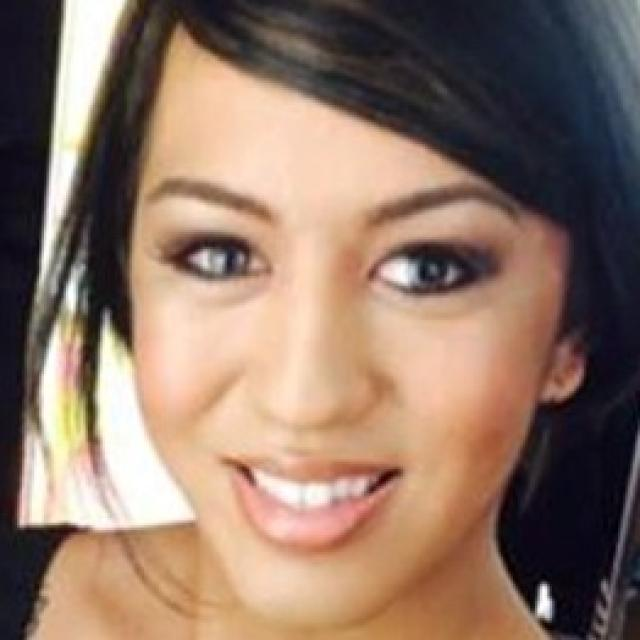Normal: (125, 18, 562, 630)
